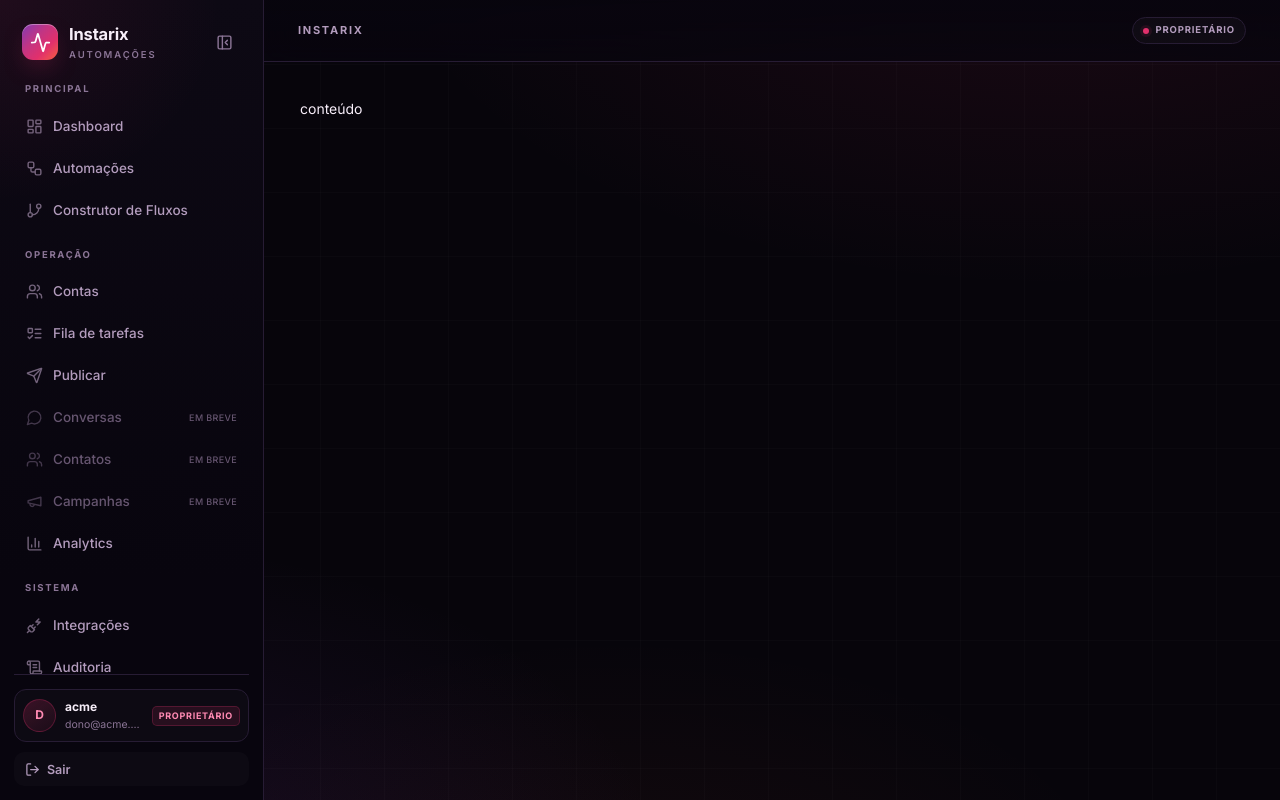
Test: sidebar › expõe as seções principais e mantém Recolher menu funcional
This screenshot has width=1280, height=800.
Expected: the link "Dashboard" is shown, [26,118,123,135]
Expected: the link "Construtor de Fluxos" is shown, [26,202,188,219]
Click the button named "Recolher menu" at coordinates (224, 42), box [207,25,241,59]
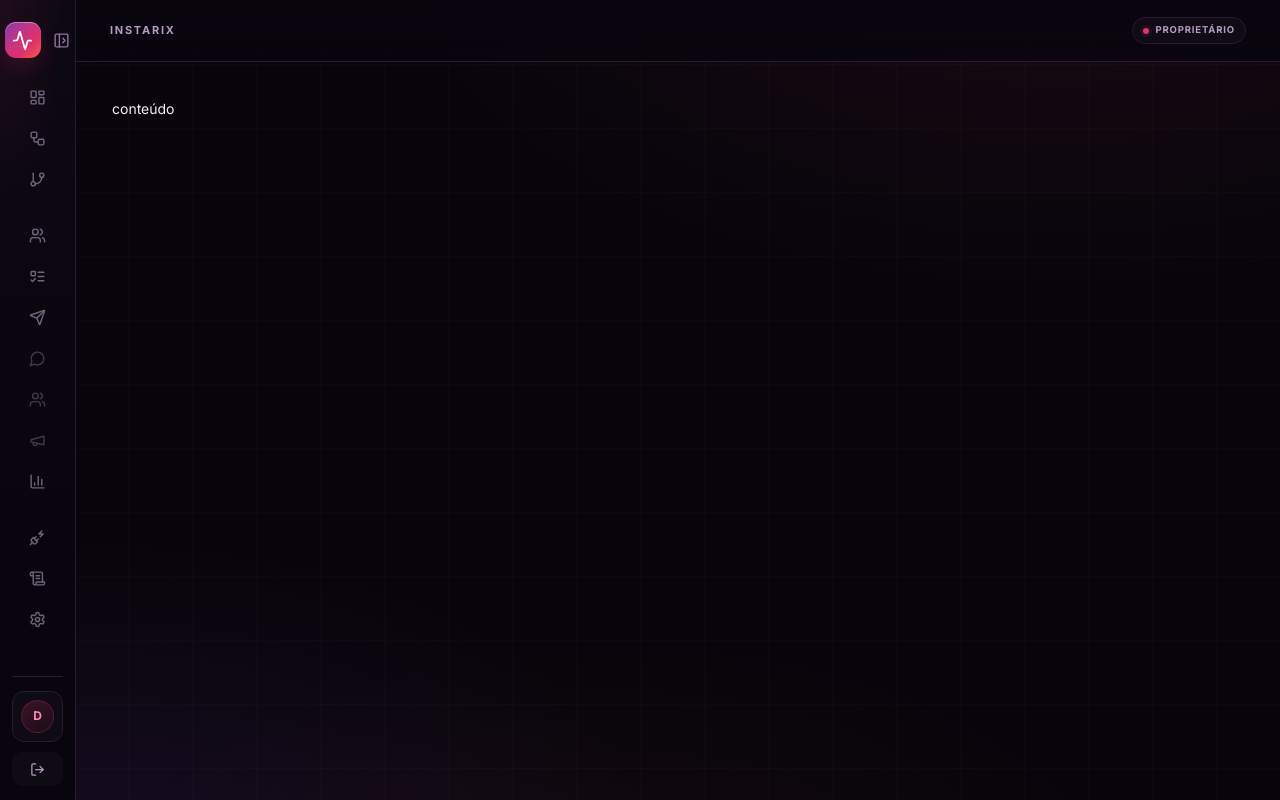
Expected: the element with class "sidebar-collapsed" is shown, [0,0,76,799]
